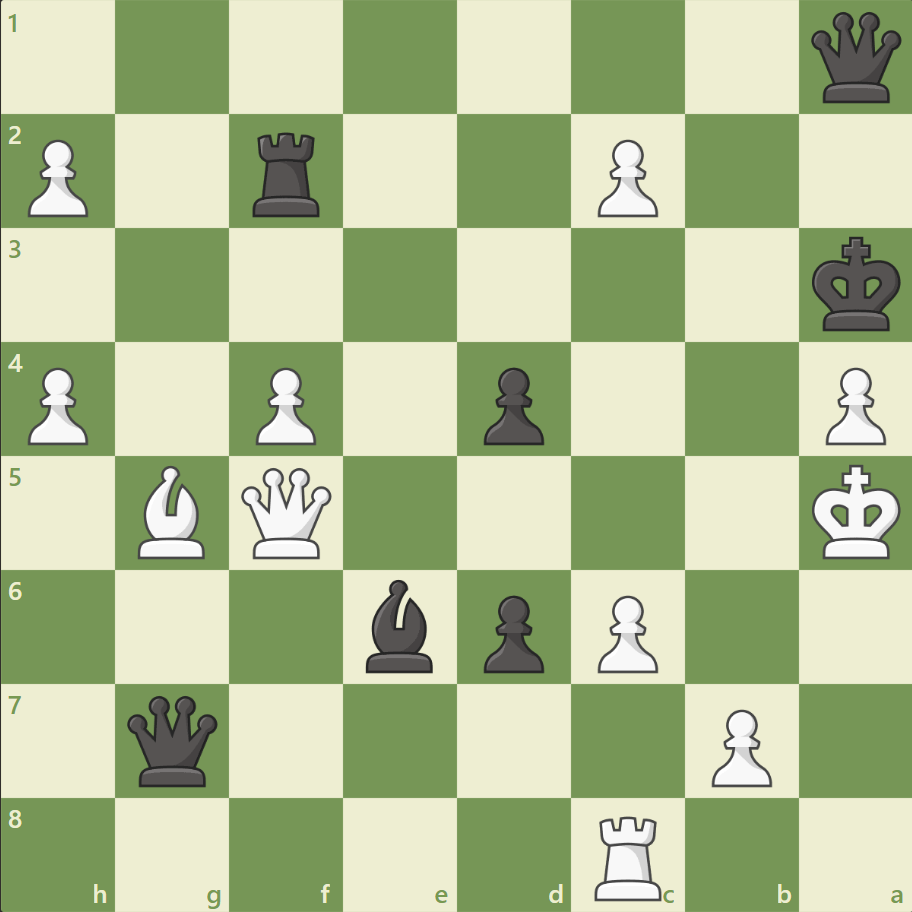B: (131, 460, 215, 563)
K: (806, 458, 906, 566)
P: (701, 700, 776, 791), (247, 359, 322, 450), (20, 359, 95, 450), (20, 132, 95, 223), (588, 586, 662, 677), (815, 359, 889, 450), (588, 132, 662, 223)
Q: (237, 463, 336, 562)
R: (587, 806, 670, 904)
b: (358, 574, 442, 676)
k: (806, 231, 906, 339)
p: (474, 586, 549, 677), (474, 359, 549, 450)
q: (124, 690, 223, 789), (805, 9, 904, 108)
r: (246, 125, 329, 222)
